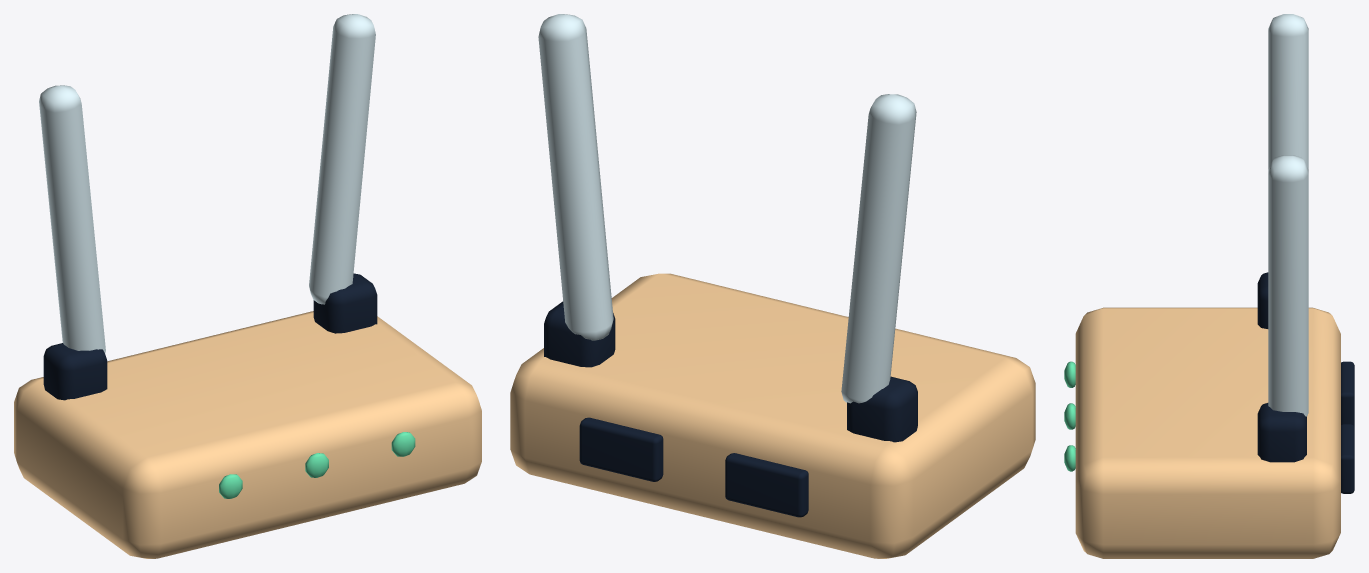
Rendered from router.fbx.
The picture shows the model from 3 angles, left to right: view 1: azimuth 30°, elevation 25°; view 2: azimuth 150°, elevation 25°; view 3: azimuth 270°, elevation 25°; orthographic projection. The views are drawn at different scales.
Visible parts, largest first — view 1: router; view 2: router; view 3: router.
Boxes of the visible parts, x1,y1,x2,y2 form: router: (14,14,481,558); router: (510,14,1035,558); router: (1064,14,1354,558).
Bounding box in the file's own units: 93.02 × 100 × 66.37.
